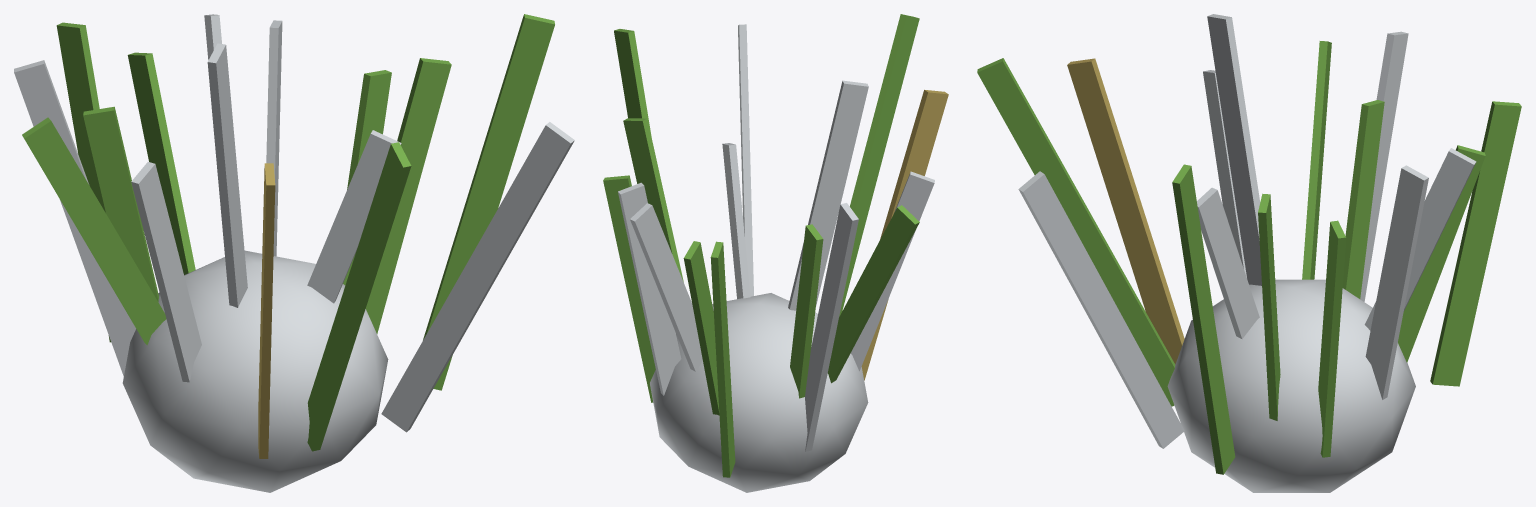
The model's file is buisson_toundra_3.glb.
3 views of the same model, side by side, from view 1: azimuth 30°, elevation 25°; view 2: azimuth 150°, elevation 25°; view 3: azimuth 270°, elevation 25° (orthographic). The views are drawn at different scales.
Parts seen in each view (by area): view 1: herbe_neige.002, herbe_feuille_claire.004, herbe_herbe_seche.004; view 2: herbe_neige.002, herbe_feuille_claire.004, herbe_herbe_seche.004; view 3: herbe_neige.002, herbe_feuille_claire.004, herbe_herbe_seche.004.
Boxes of the visible parts, x1,y1,x2,y2 form: herbe_neige.002: (14, 14, 574, 492); herbe_feuille_claire.004: (22, 14, 554, 451); herbe_herbe_seche.004: (258, 163, 275, 458); herbe_neige.002: (618, 24, 934, 492); herbe_feuille_claire.004: (603, 14, 919, 477); herbe_herbe_seche.004: (861, 89, 948, 380); herbe_neige.002: (1018, 14, 1476, 492); herbe_feuille_claire.004: (977, 41, 1521, 474); herbe_herbe_seche.004: (1067, 58, 1184, 364).
Size of the model in its own units: 0.5749 by 0.5819 by 0.6576.
